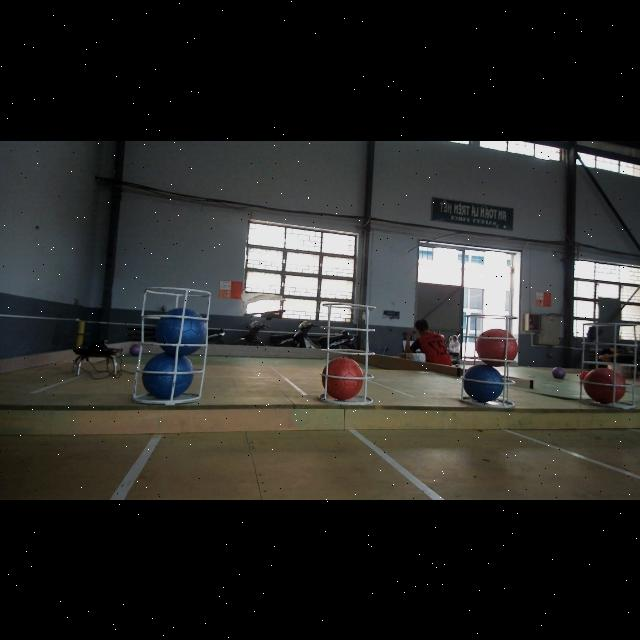B: (155, 306, 207, 356), (142, 352, 194, 400), (461, 363, 505, 402)
R: (322, 356, 362, 399), (474, 328, 520, 364), (582, 368, 626, 404)
